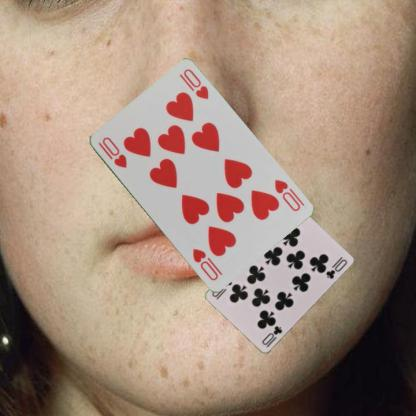10c: (259, 324, 284, 346)
10h: (95, 134, 128, 169), (271, 176, 302, 212)
